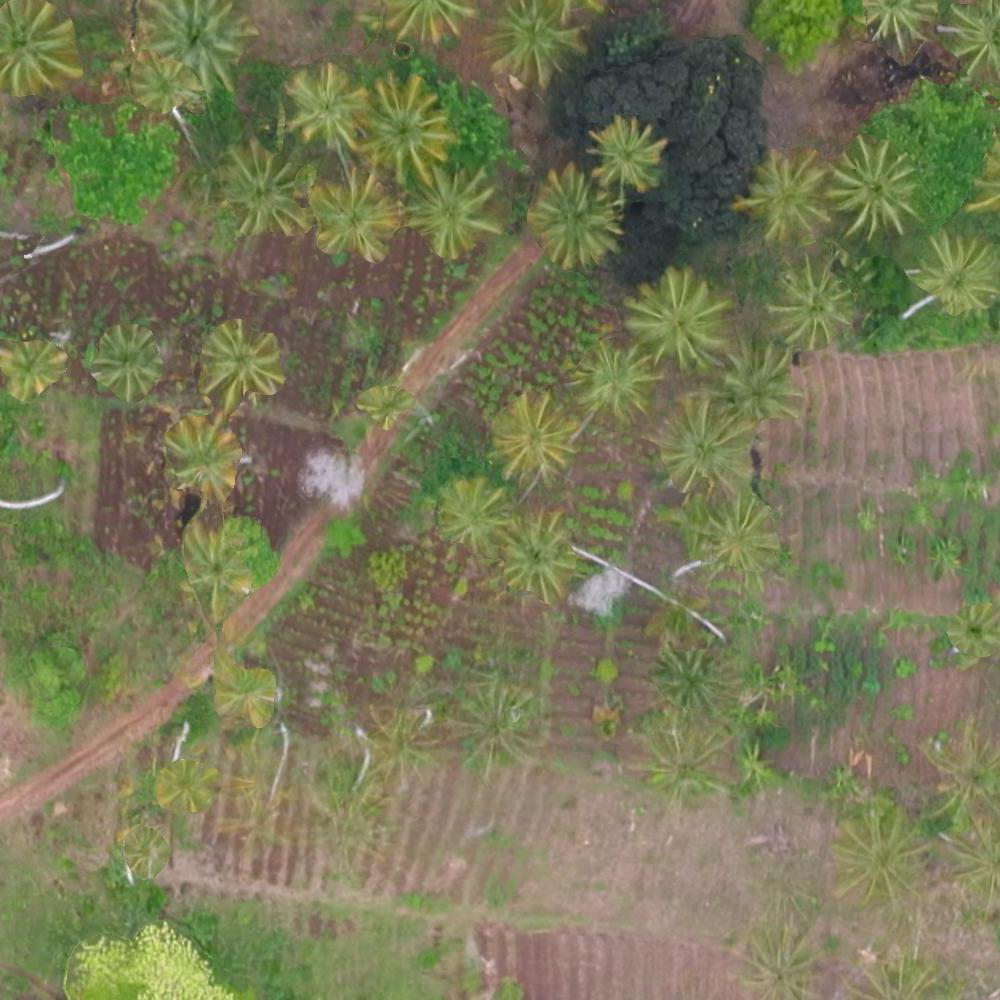Palm: (146, 2, 248, 97), (628, 271, 726, 368), (528, 168, 618, 264), (661, 398, 755, 488), (361, 75, 446, 174), (828, 141, 918, 231), (407, 167, 499, 255), (218, 145, 308, 233), (1, 1, 87, 93), (309, 172, 398, 258), (725, 338, 812, 424), (742, 154, 832, 236), (493, 2, 584, 83), (770, 261, 854, 347), (492, 393, 576, 472), (918, 228, 998, 310), (290, 64, 366, 149), (495, 517, 576, 596), (571, 344, 655, 417), (166, 415, 244, 491), (590, 113, 664, 193), (699, 498, 779, 571), (208, 325, 278, 399), (438, 478, 508, 546), (96, 326, 162, 398), (131, 52, 198, 121), (2, 340, 62, 399)
